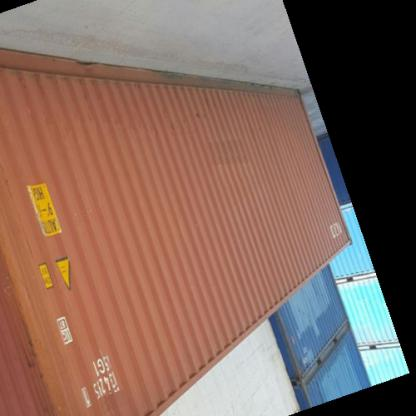Damage: (2, 223, 44, 353), (37, 334, 75, 412)
